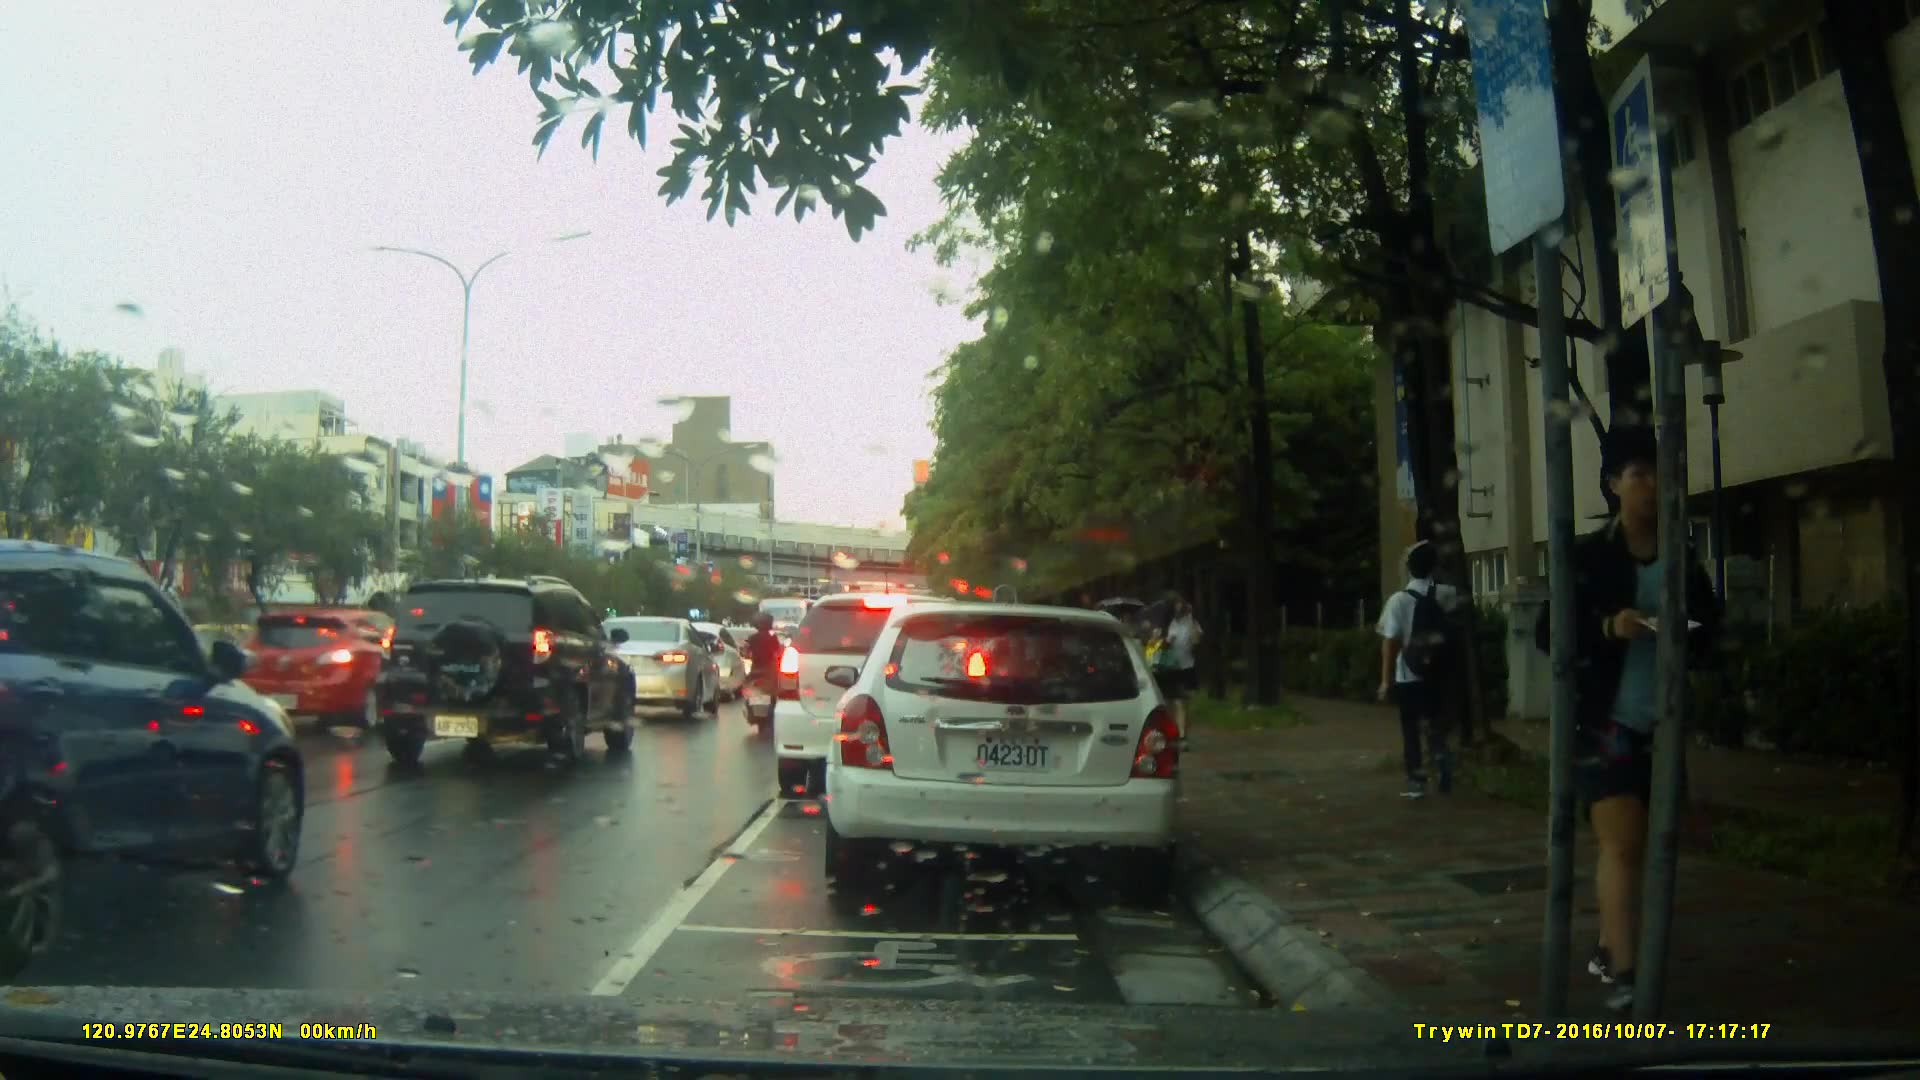pedestrian: (1573, 422, 1727, 981), (1366, 531, 1485, 809), (1146, 582, 1204, 738)
rider: (733, 607, 786, 736)
vehicle: (3, 535, 313, 927), (815, 593, 1202, 902), (369, 573, 640, 775), (771, 590, 995, 802), (231, 608, 439, 733), (562, 614, 715, 729)
